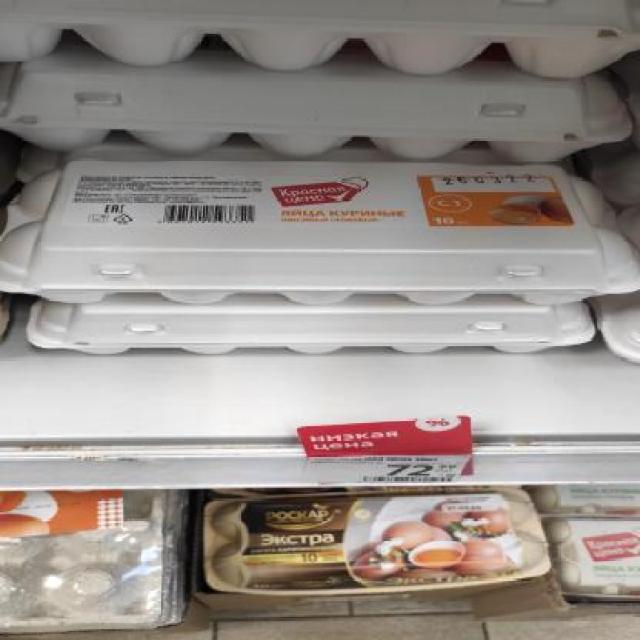Egg: (5, 159, 640, 303), (203, 490, 552, 593), (557, 516, 640, 600)
